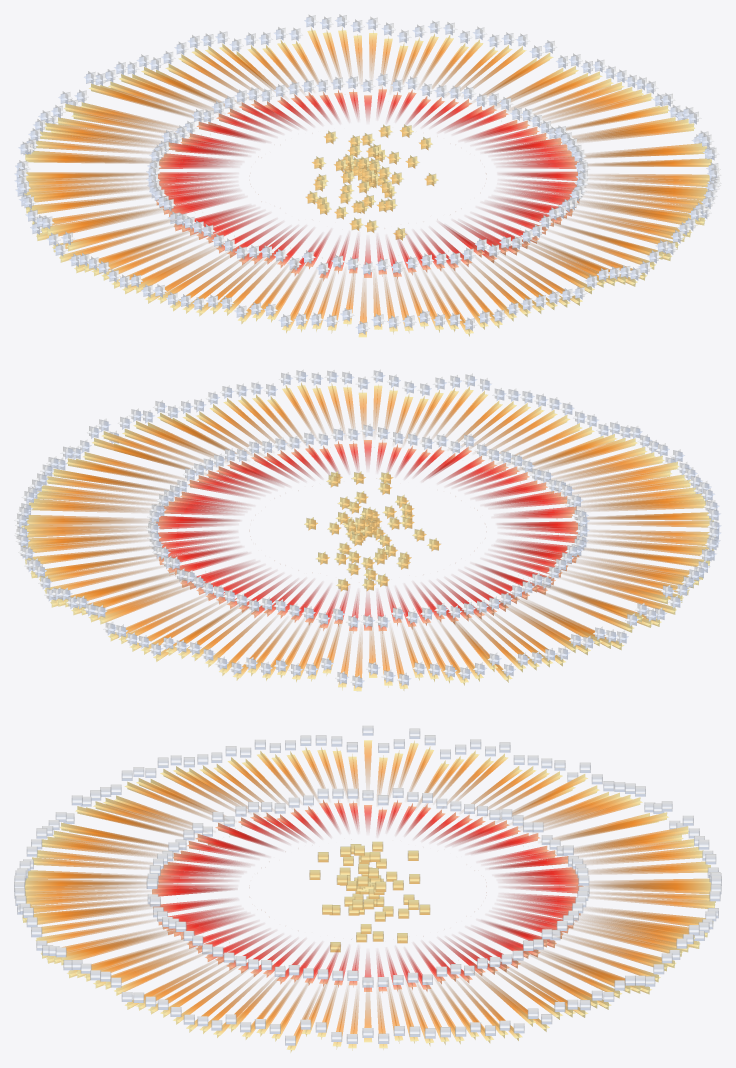
The model's file is fw_ring_gold_red_a.glb.
3 renders of one model, top to bottom at view 1: azimuth 30°, elevation 25°; view 2: azimuth 150°, elevation 25°; view 3: azimuth 270°, elevation 25°, orthographic.
Visible parts, largest first — view 1: spire; view 2: spire; view 3: spire.
Part boxes in pixels (bbox=[...]): spire: bbox=[14, 14, 721, 337]; spire: bbox=[14, 369, 721, 691]; spire: bbox=[14, 725, 721, 1052].
Size of the model in its own units: 20.32 by 3.35 by 20.32.
Materials: 4 (4 with a texture image).
